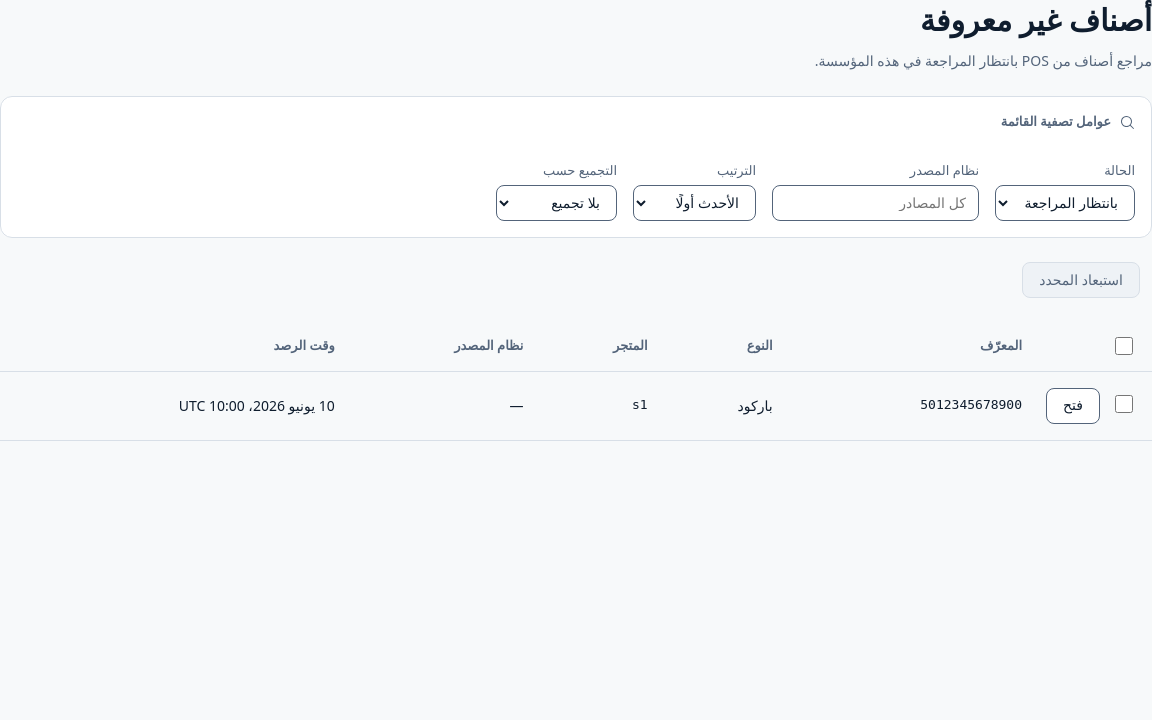
Test: UnknownItemList state matrix › Arabic: the queue and drawer render Arabic copy
This screenshot has width=1152, height=720.
expect the text "5012345678900" is shown: met, box [920,398,1022,412]
expect the heading reads "أصناف غير معروفة": met, box [920,0,1151,40]
Click the button with aria-label "فتح 5012345678900".
click(1073, 406)  # box [1046,388,1100,424]
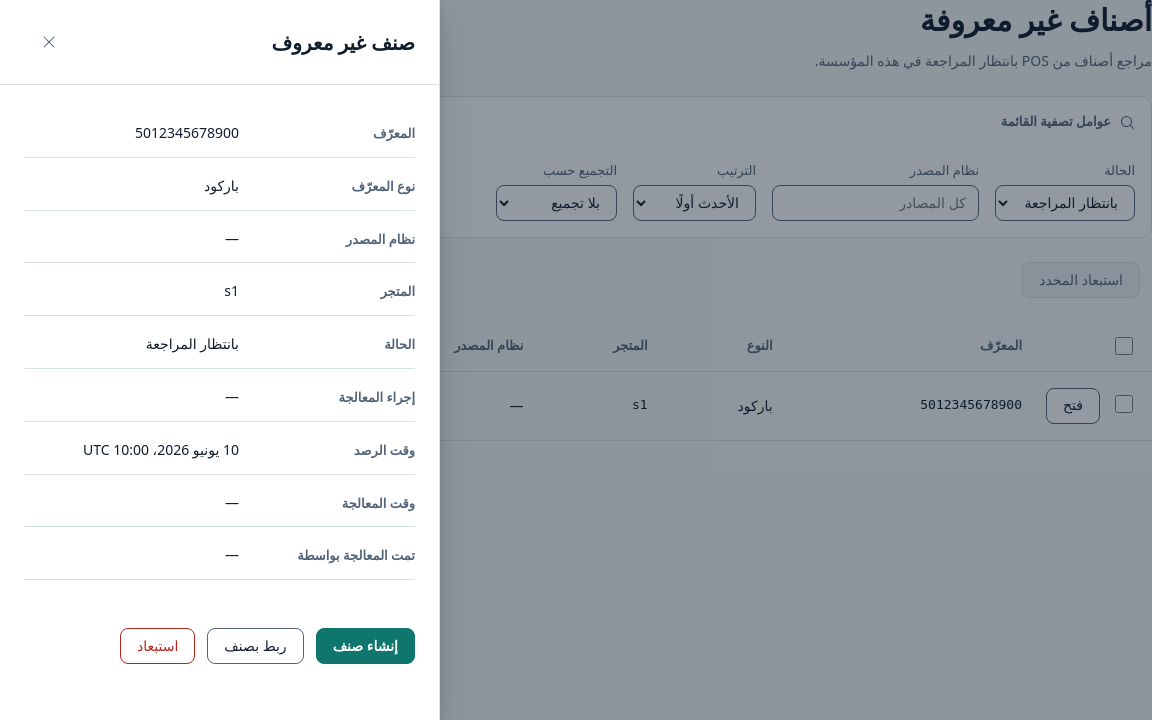
expect the dialog "صنف غير معروف" shows "نوع المعرّف": met, box [352,177,415,195]
expect the dialog "صنف غير معروف" shows "بانتظار المراجعة": met, box [146,334,239,353]
expect the button "استبعاد" is shown: met, box [120,628,195,664]
